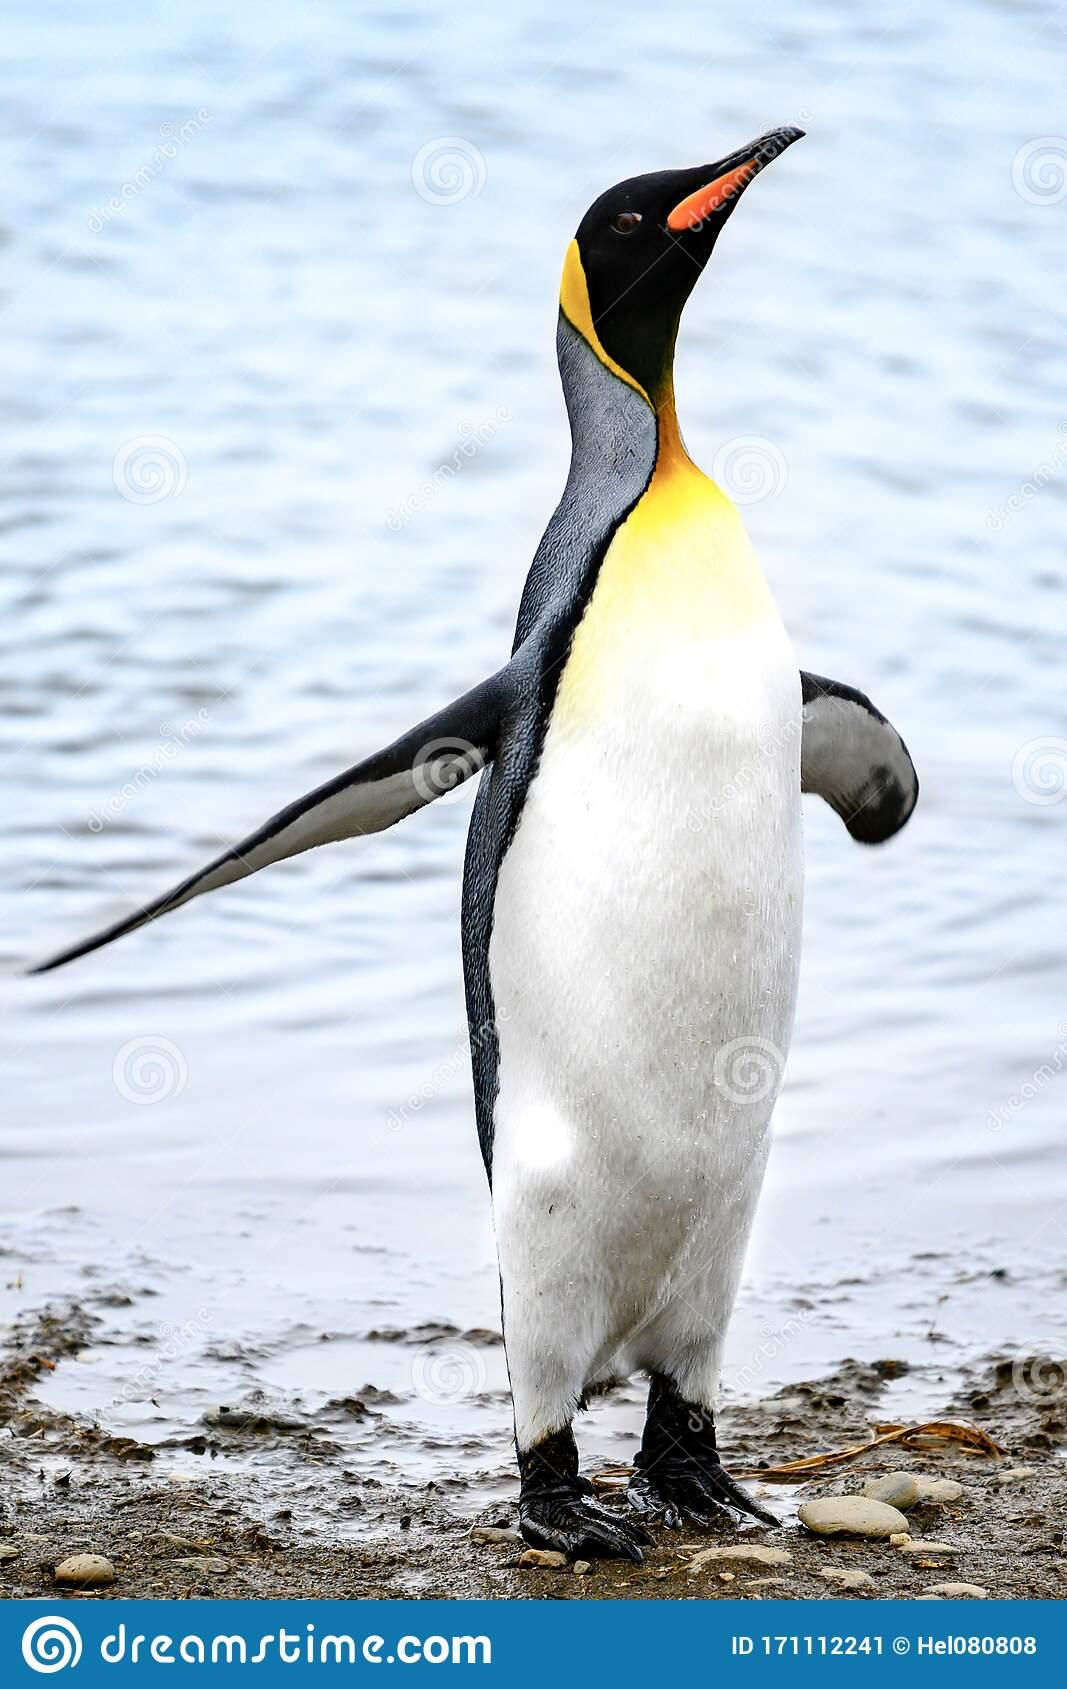king: (338, 90, 913, 1570)
